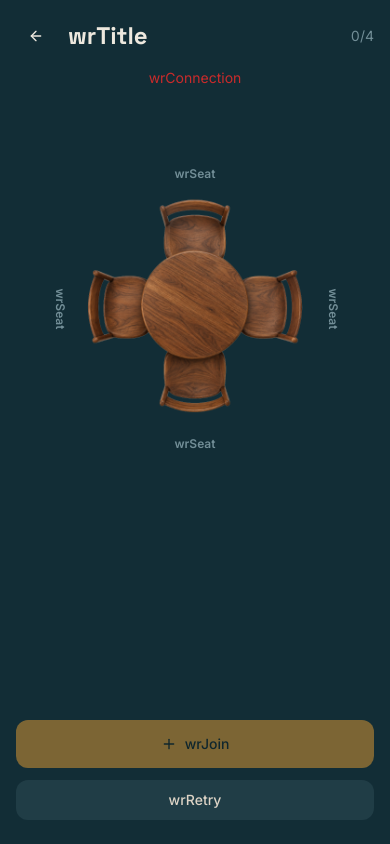
Test case: retry repeats failed initial join and obtains a seat
Click the button "wrRetry": point(195, 800) [16, 780, 374, 820]
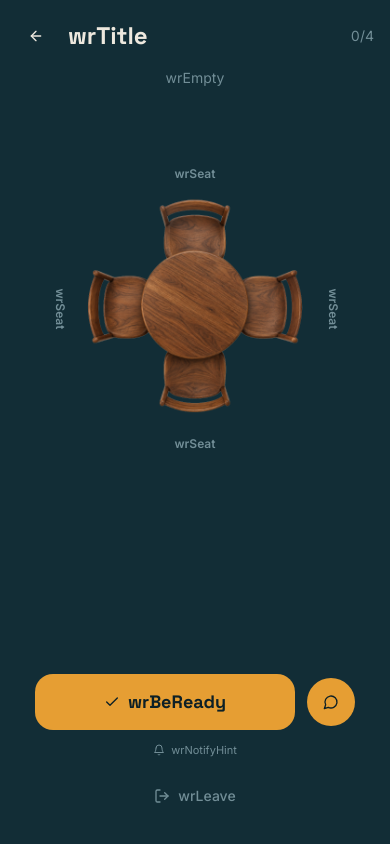
Check: the button "wrBeReady" is shown, box [35, 674, 295, 730]
